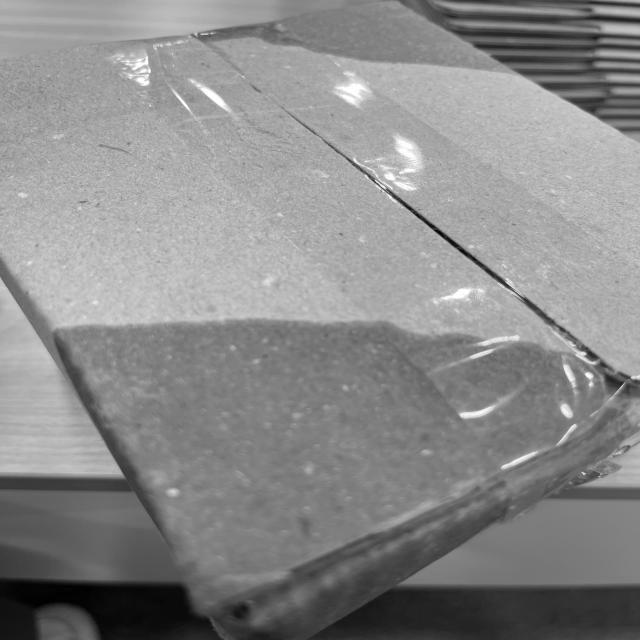wet: (58, 322, 623, 639), (197, 0, 515, 72)
